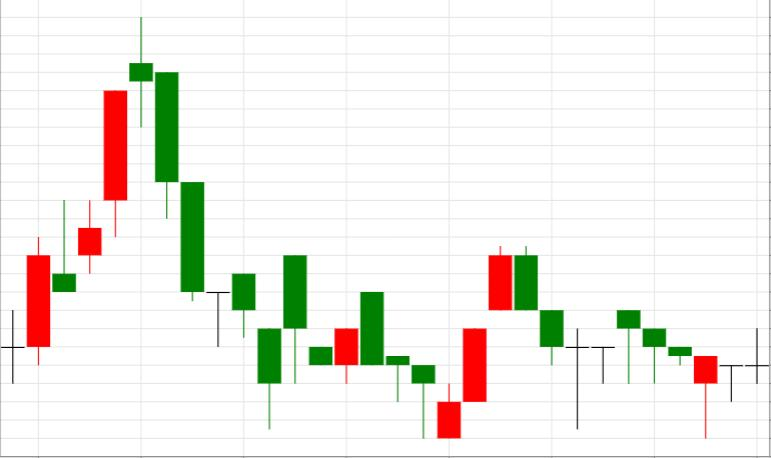evening_star_fall: (1, 16, 178, 384)
